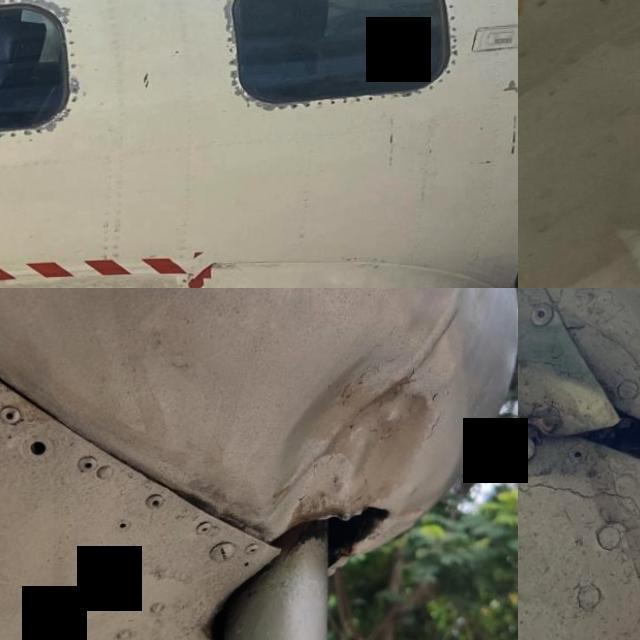Crack: (518, 406, 568, 447)
Dent: (253, 328, 464, 556)
